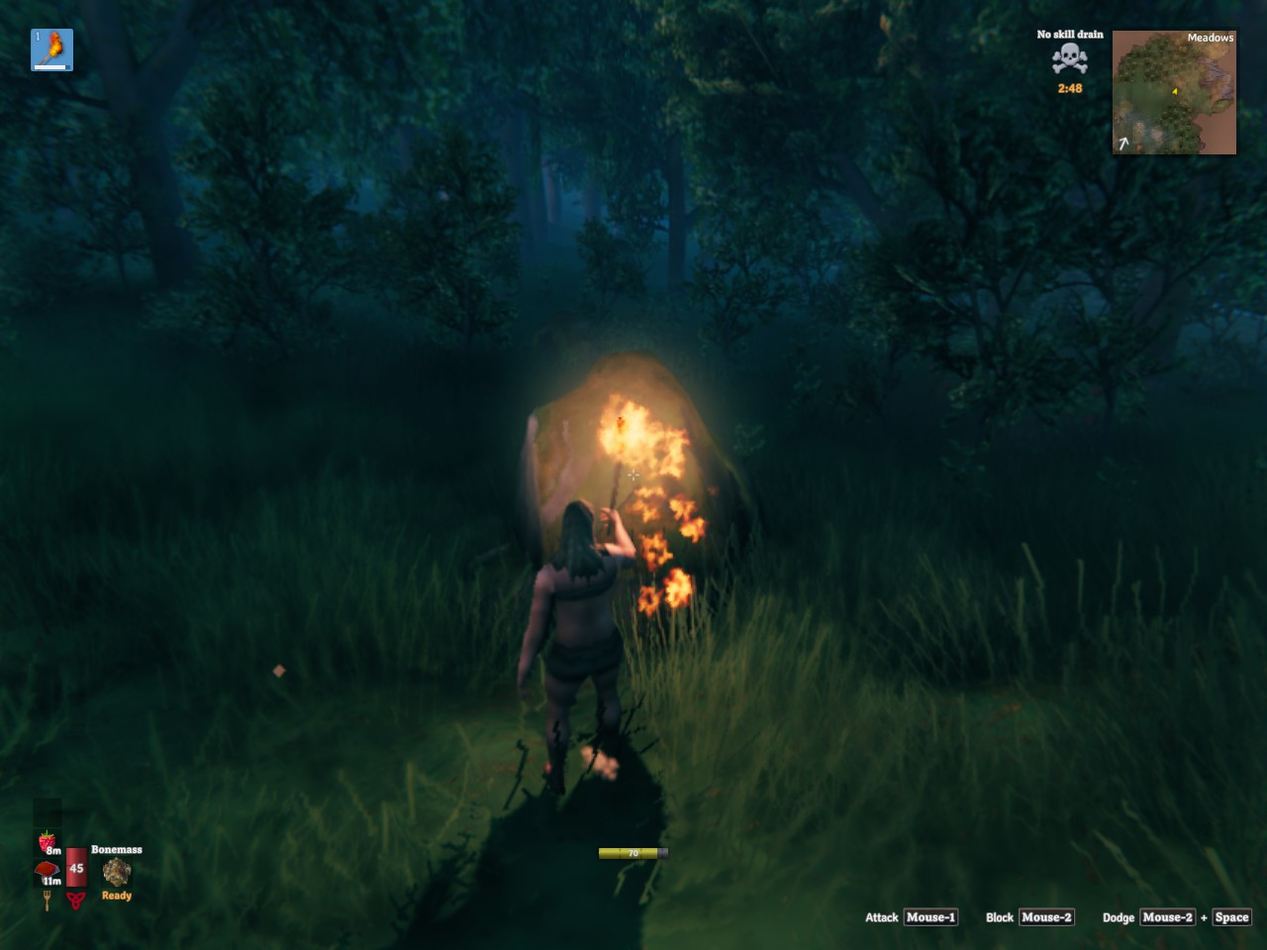Torch: (607, 456, 622, 513), (609, 520, 613, 535), (618, 418, 623, 428)
